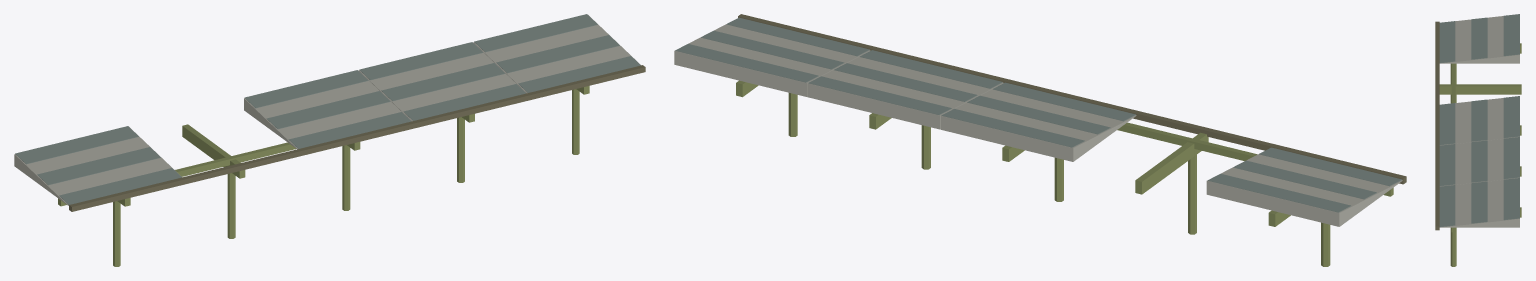
The model's file is SM_marquesina_v1_LOD1.fbx.
The picture shows the model from 3 angles, left to right: view 1: azimuth 30°, elevation 25°; view 2: azimuth 150°, elevation 25°; view 3: azimuth 270°, elevation 25°; orthographic projection. The views are drawn at different scales.
Visible parts, largest first — view 1: SM_bloques.marquesina_v1_LOD1; view 2: SM_bloques.marquesina_v1_LOD1; view 3: SM_bloques.marquesina_v1_LOD1.
Part boxes in pixels (bbox=[...]): SM_bloques.marquesina_v1_LOD1: bbox=[14, 14, 645, 266]; SM_bloques.marquesina_v1_LOD1: bbox=[674, 14, 1406, 266]; SM_bloques.marquesina_v1_LOD1: bbox=[1435, 14, 1521, 266].
Size of the model in its own units: 30 by 4.63 by 5.32.
